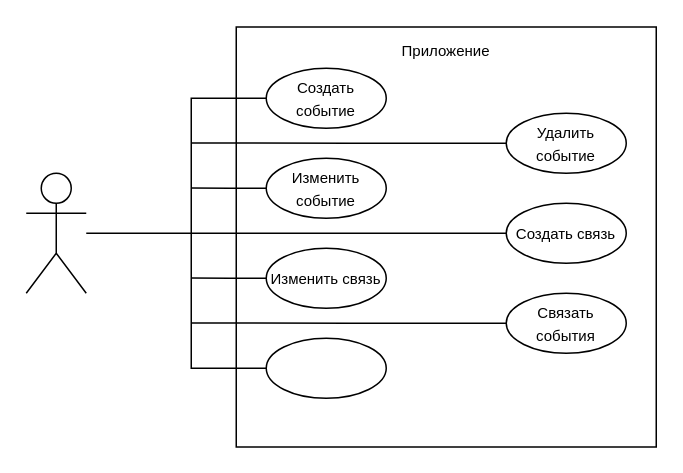
This 683x473 diagram has some shape labels left out. The shapes that lost their labels are listed below. From the top down, each one's centre as x and y in pixels, then its label:
[55,232]: User
[325,367]: Удалить связь
